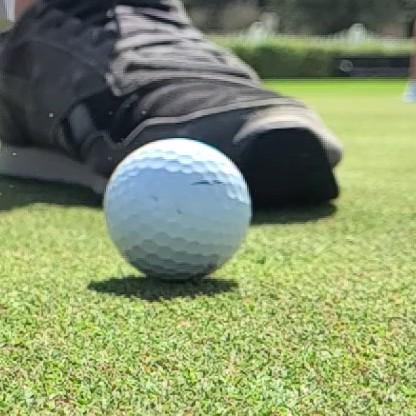golfball: (104, 139, 251, 279)
